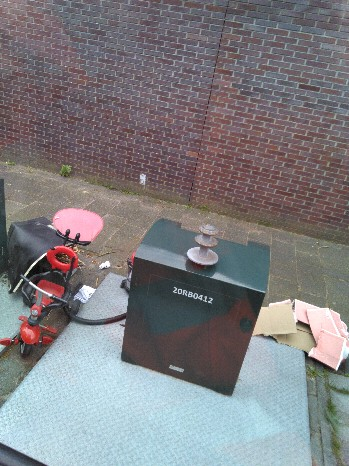Container: (132, 221, 254, 396)
Papier: (265, 297, 349, 376)
Rest: (19, 202, 120, 339)
